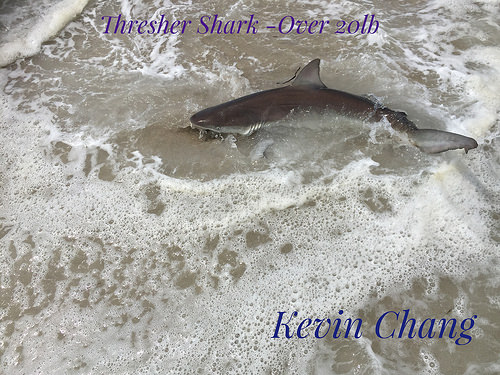shark: (175, 40, 491, 182)
